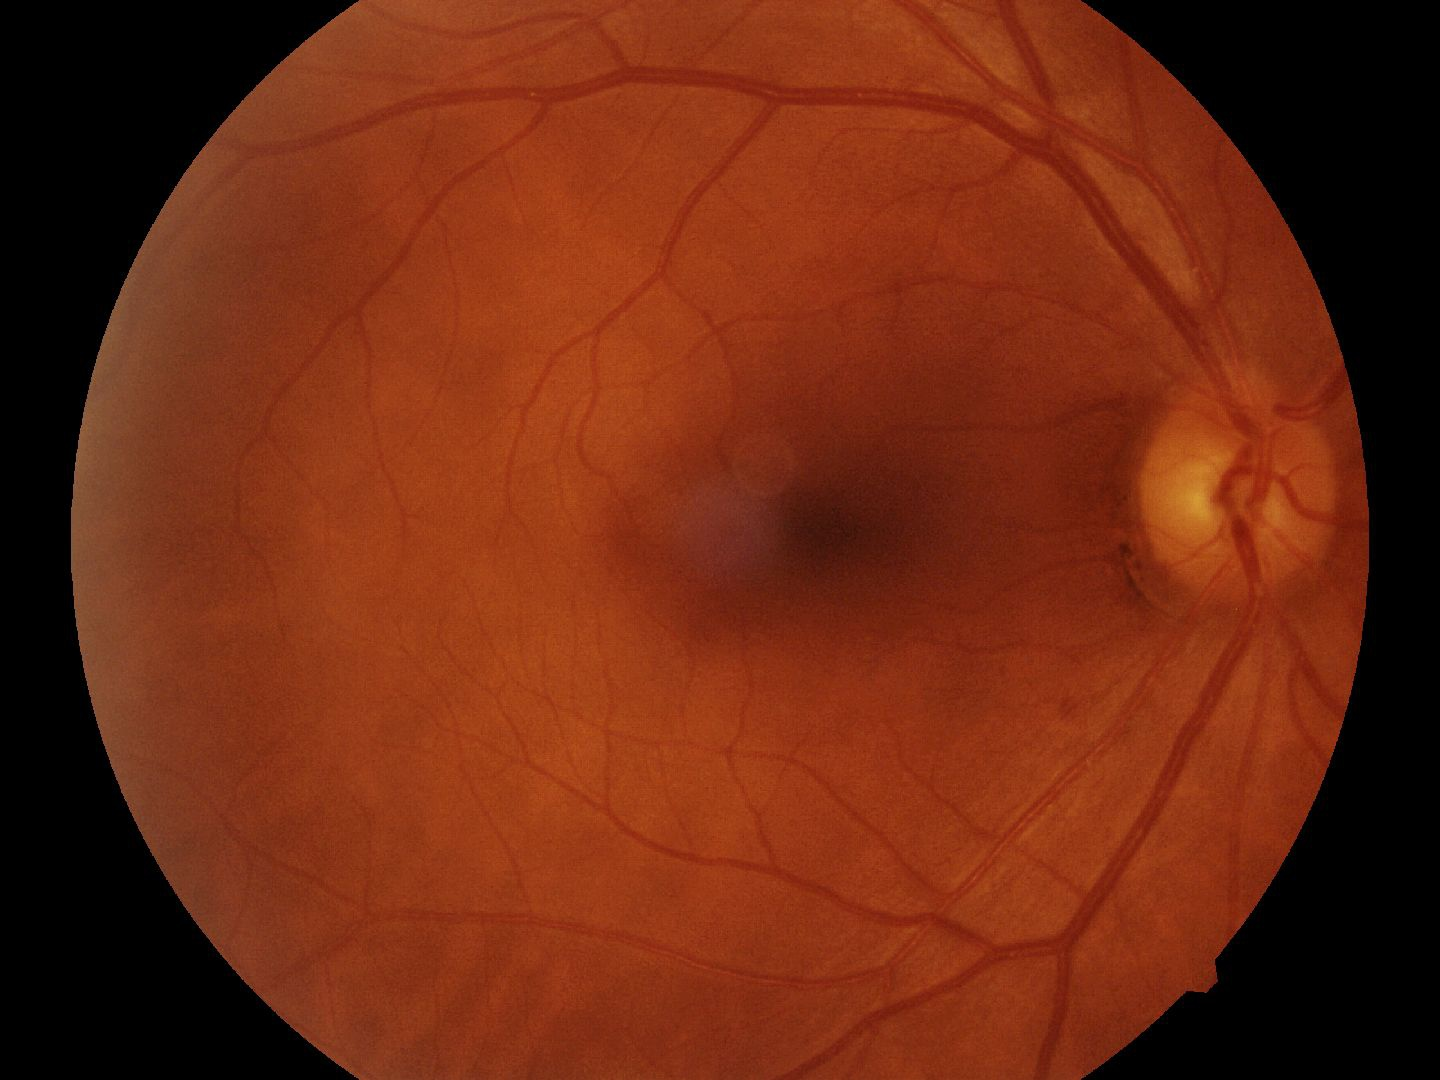Hemorrhages: (664, 388, 918, 658)
Optic-Disc: (1136, 358, 1341, 611)
Venules: (749, 44, 1140, 225), (984, 701, 1205, 997)
